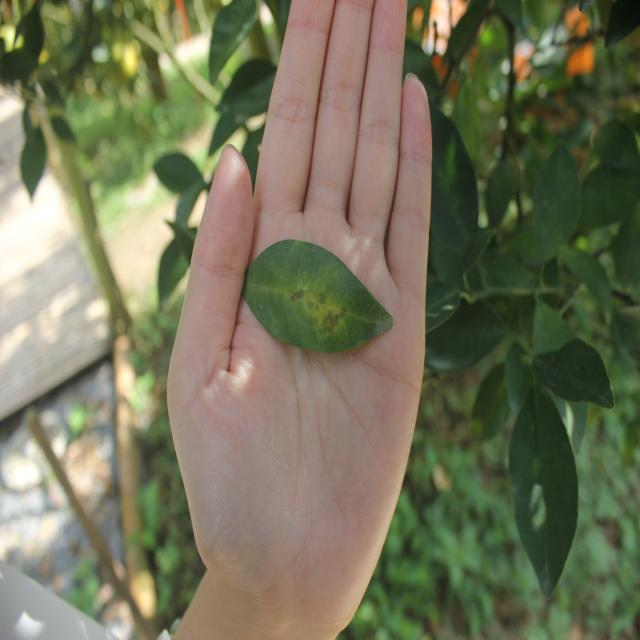canker: (280, 266, 367, 348)
